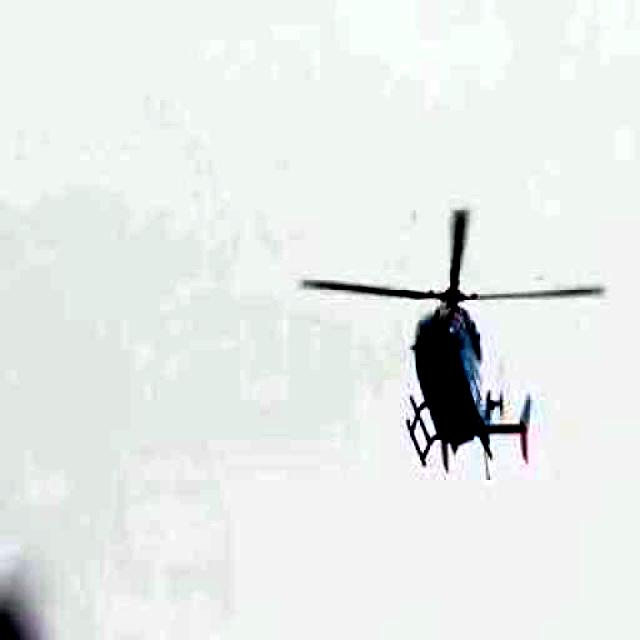drone: (301, 186, 601, 512)
